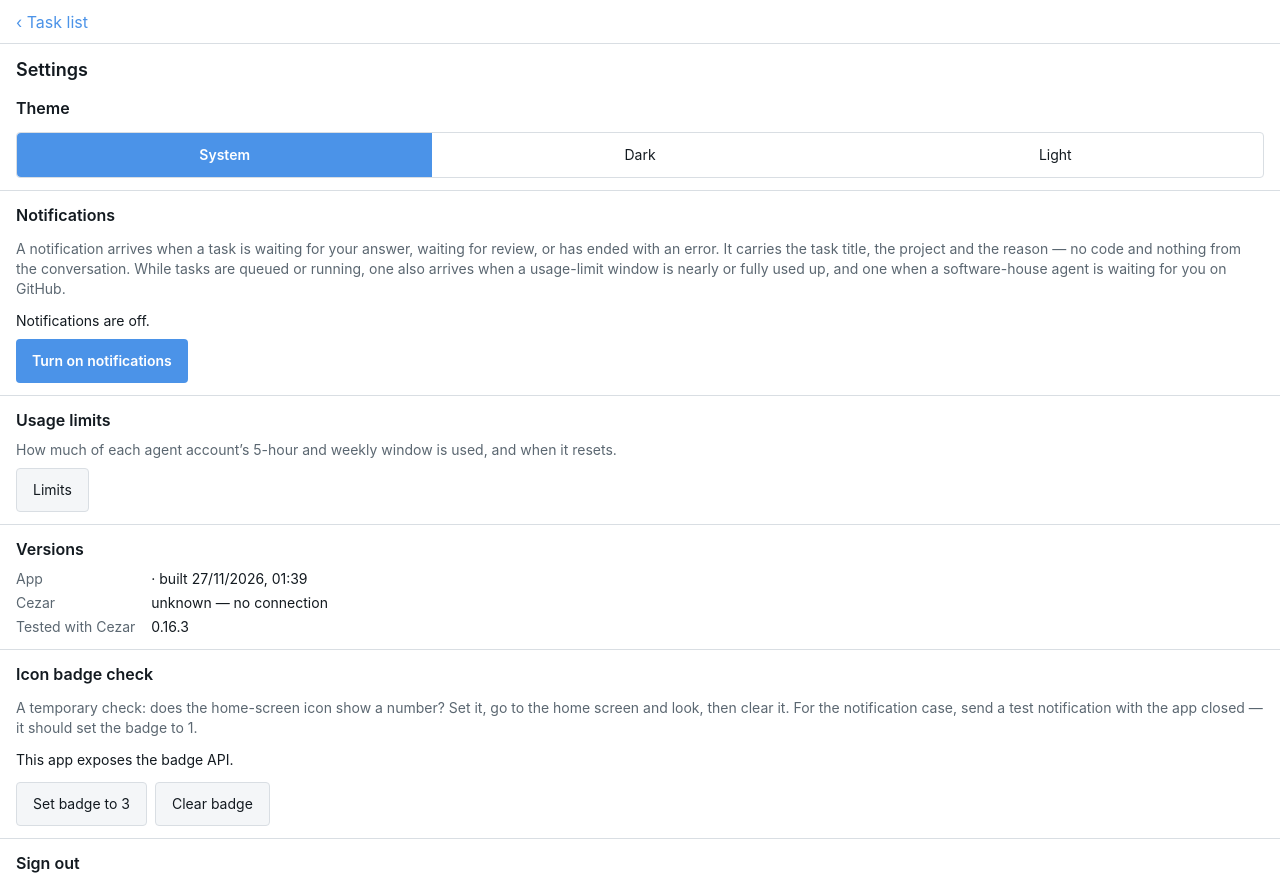
Scenario: Settings → Notifications › says the notification server is down when nginx answers for it
What coordinates should you click on to do the following:
click the button "Turn on notifications"
I would click on:
 (102, 361)
Its box is [16,339,188,383].
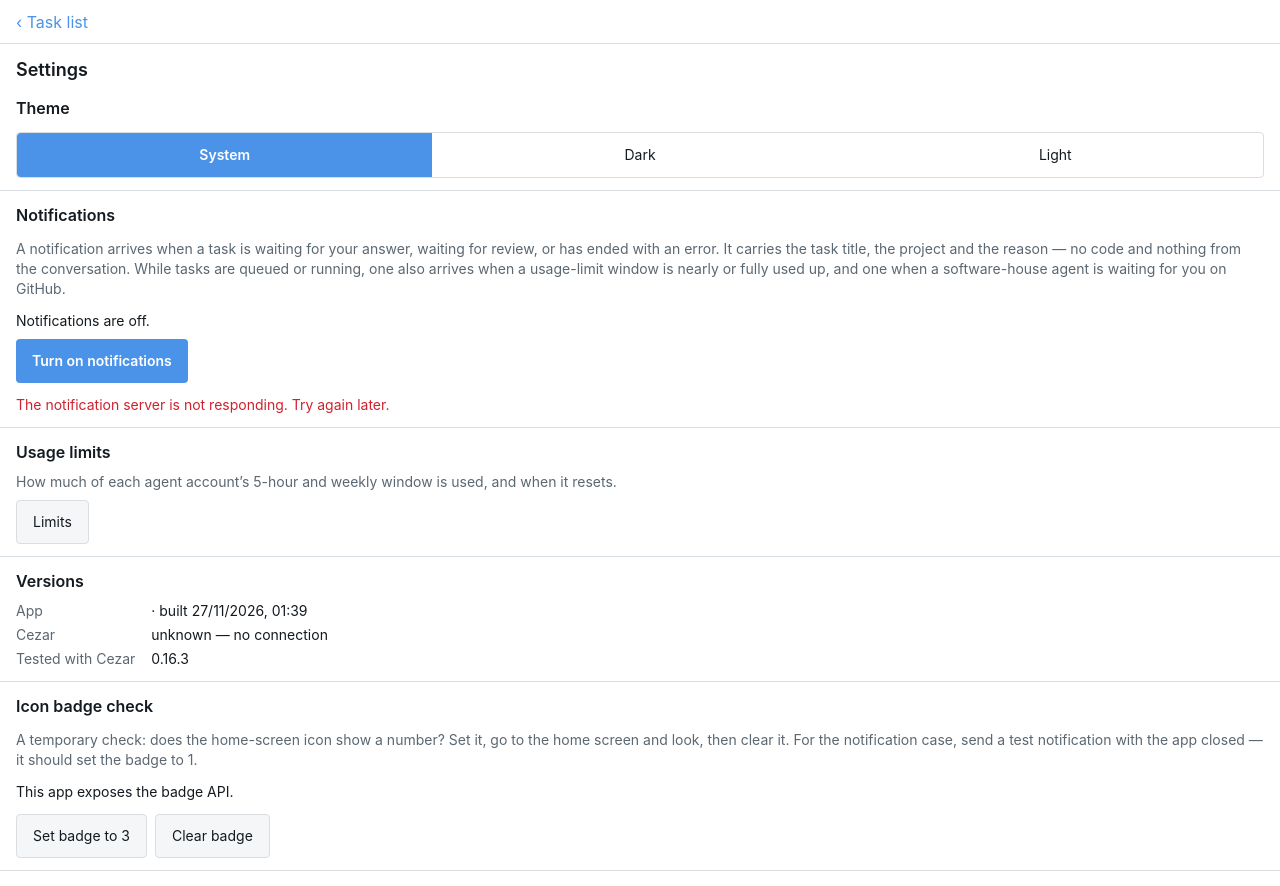
Result: the message shows "The notification server is not responding" at [16,396,390,413]
